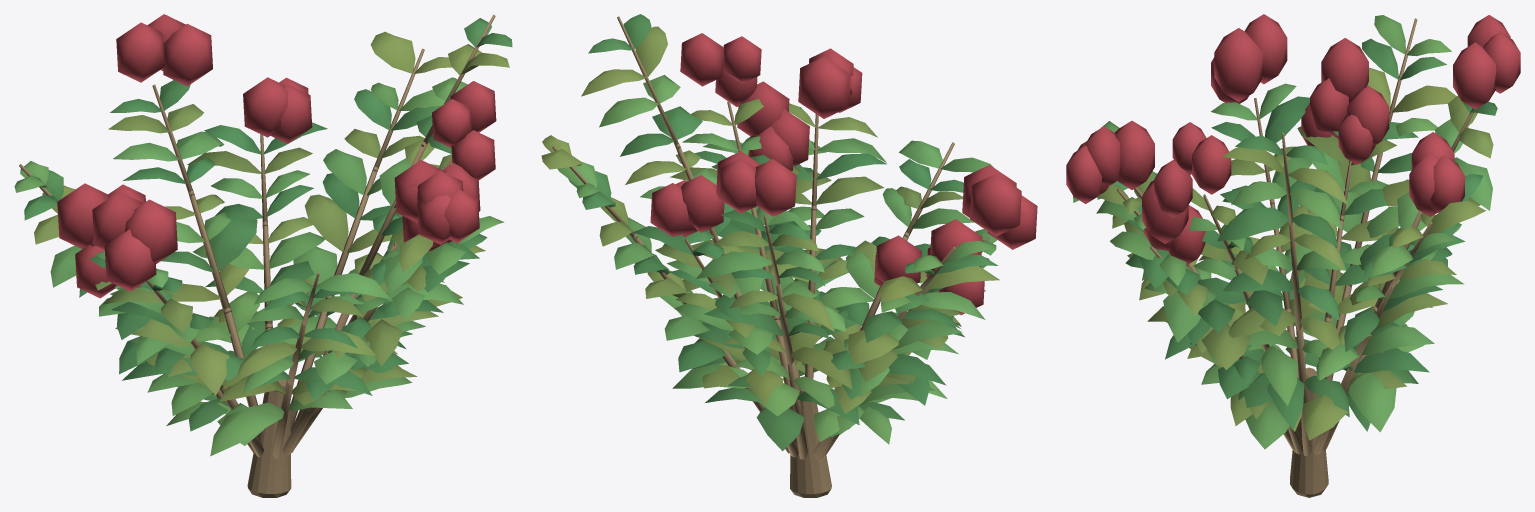
The model's file is bush_berry.glb.
The picture shows the model from 3 angles, left to right: view 1: azimuth 30°, elevation 25°; view 2: azimuth 150°, elevation 25°; view 3: azimuth 270°, elevation 25°; orthographic projection. The views are drawn at different scales.
Visible parts, largest first — view 1: bush_berry; view 2: bush_berry; view 3: bush_berry.
Boxes of the visible parts, box(x1,y1,x2,y2) form: bush_berry: box(14, 14, 512, 497); bush_berry: box(541, 14, 1037, 497); bush_berry: box(1066, 14, 1520, 497).
Bounding box in the file's own units: 1.22 × 1.11 × 0.9753.
